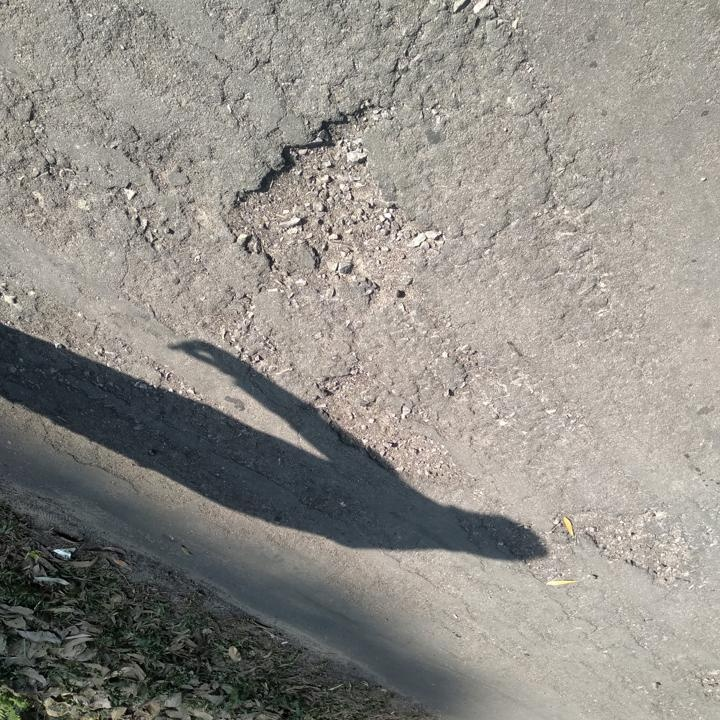pothole: (221, 102, 443, 298), (309, 370, 473, 490), (581, 509, 696, 585)
